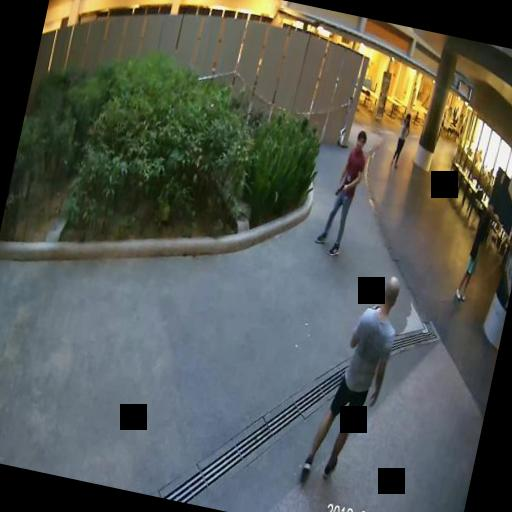Handgun: (334, 180, 346, 195)
